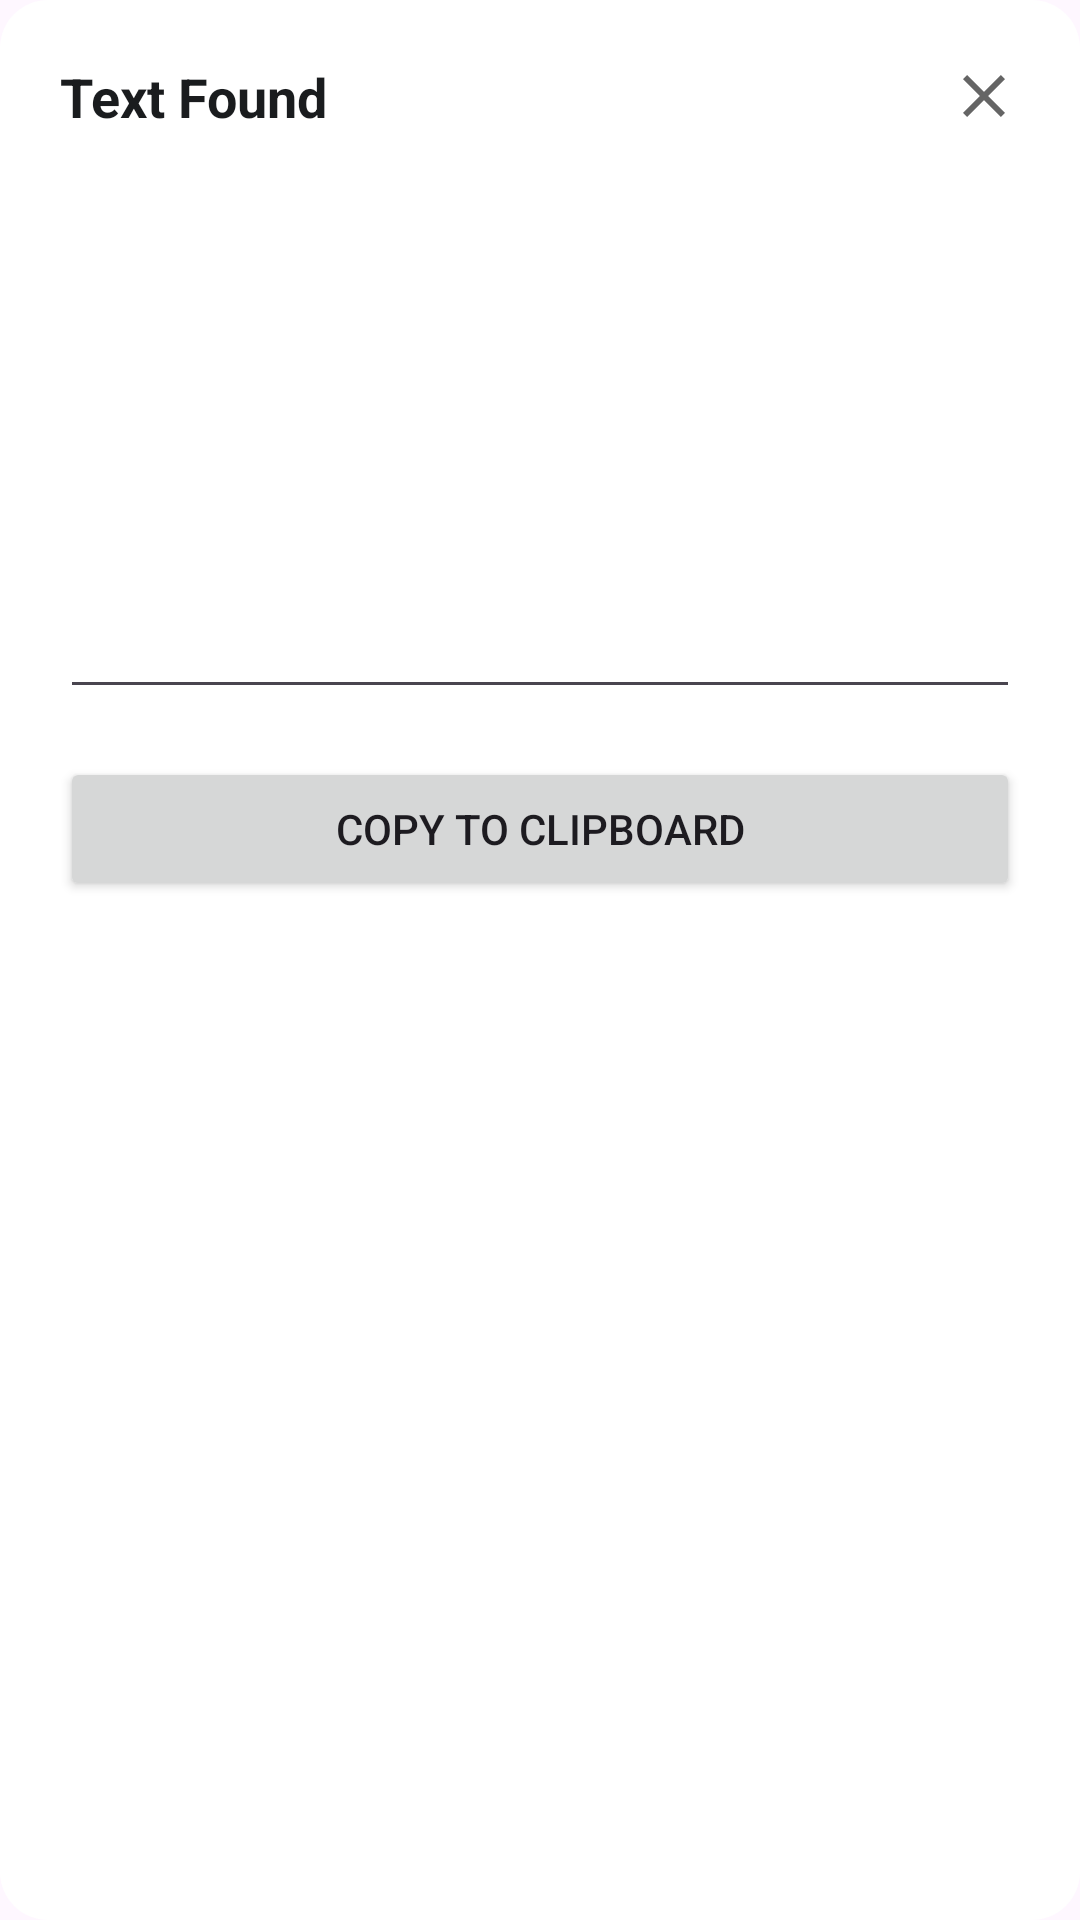

Icons on this 1080px×1920px Android screen, each with the point to tap as [x,y]:
close: [984,96]
